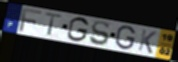F: (18, 7, 43, 33)
G: (66, 16, 91, 43), (114, 25, 137, 50)
K: (137, 28, 158, 55)
S: (89, 21, 111, 47)
T: (44, 12, 65, 37)
